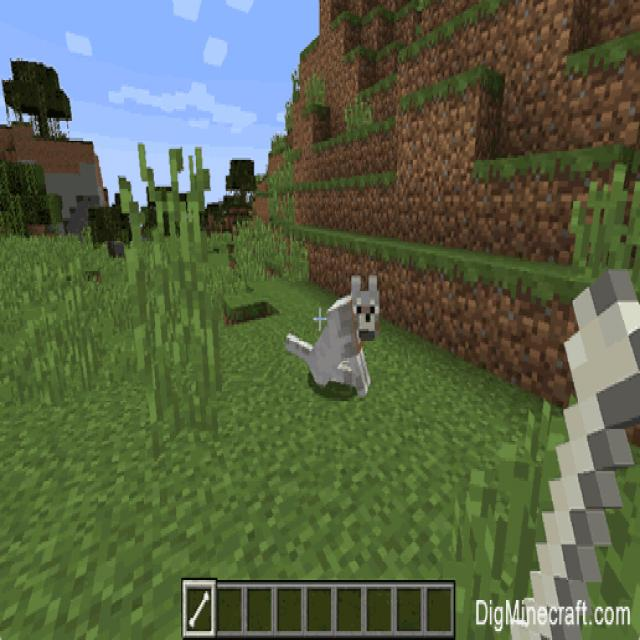Wolf: (286, 276, 379, 394)
